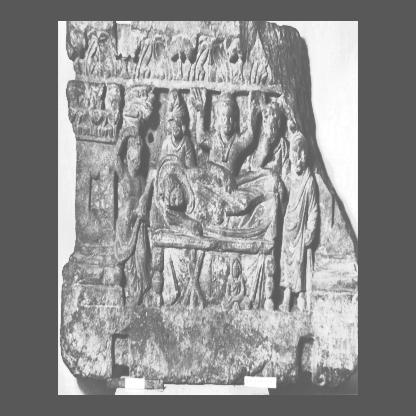buddha-sleeping: (146, 154, 280, 310)
